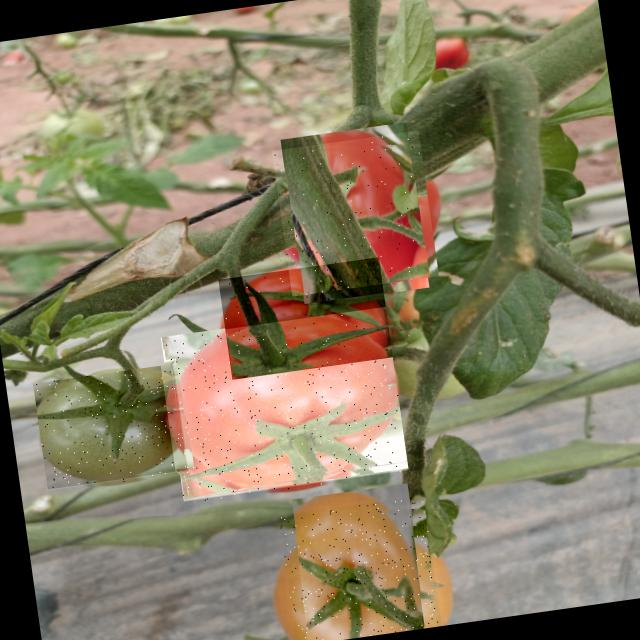Ripe Tomato: (161, 306, 409, 504), (272, 130, 439, 296), (218, 257, 392, 380)
Unripe Tomato: (279, 495, 442, 640), (34, 364, 192, 493)
